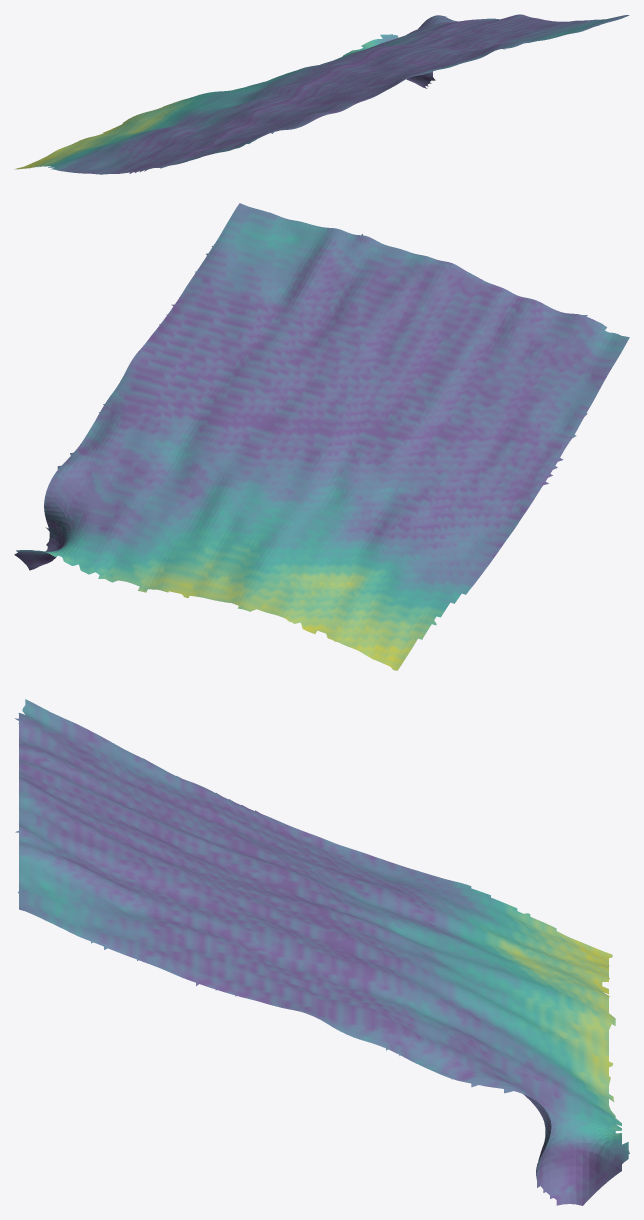
File: crop1123_gap.glb
3 views of the same model, one above another, from view 1: azimuth 30°, elevation 25°; view 2: azimuth 150°, elevation 25°; view 3: azimuth 270°, elevation 25° (orthographic). The views are drawn at different scales.
Parts seen in each view (by area): view 1: world; view 2: world; view 3: world.
Boxes of the visible parts, box(x1,y1,x2,y2) form: world: box(14, 14, 629, 174); world: box(14, 203, 629, 670); world: box(14, 699, 629, 1205).
Size of the model in its own units: 1534 by 793 by 1503.
